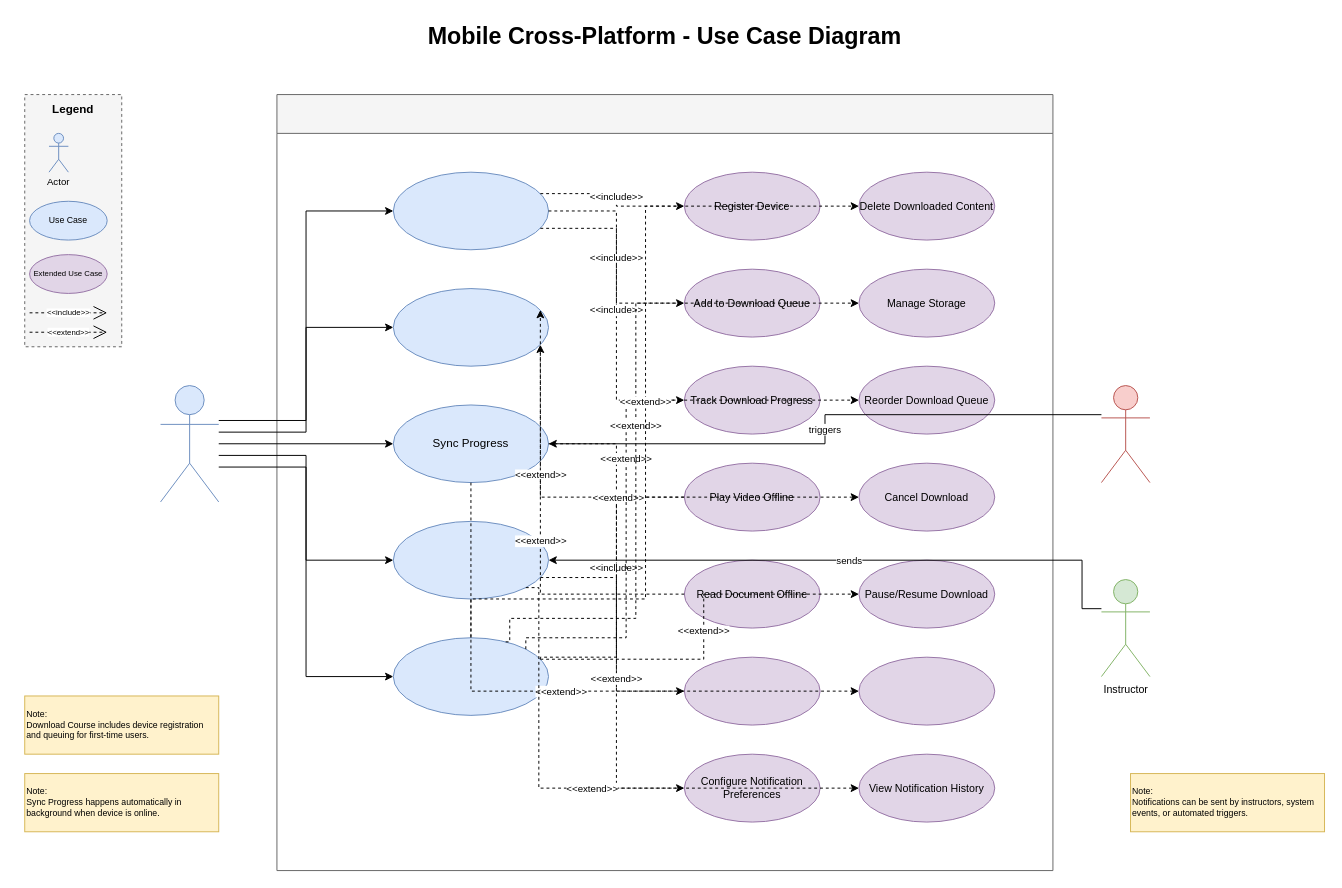
This 1342x888 diagram has some shape labels left out. Here are the shapes that lost their labels. From the top down, the box of each, then its label:
(392, 171, 549, 250): Download Course
(392, 288, 549, 366): View Offline Content
(160, 385, 219, 502): Mobile User
(1100, 385, 1150, 483): System (Background Sync)
(276, 94, 1053, 871): CoursesPlatform Mobile System
(392, 520, 549, 599): Receive Notifications
(392, 637, 549, 715): Manage Downloads
(683, 656, 820, 725): Upload Progress
(858, 656, 995, 725): Resolve Sync Conflicts
